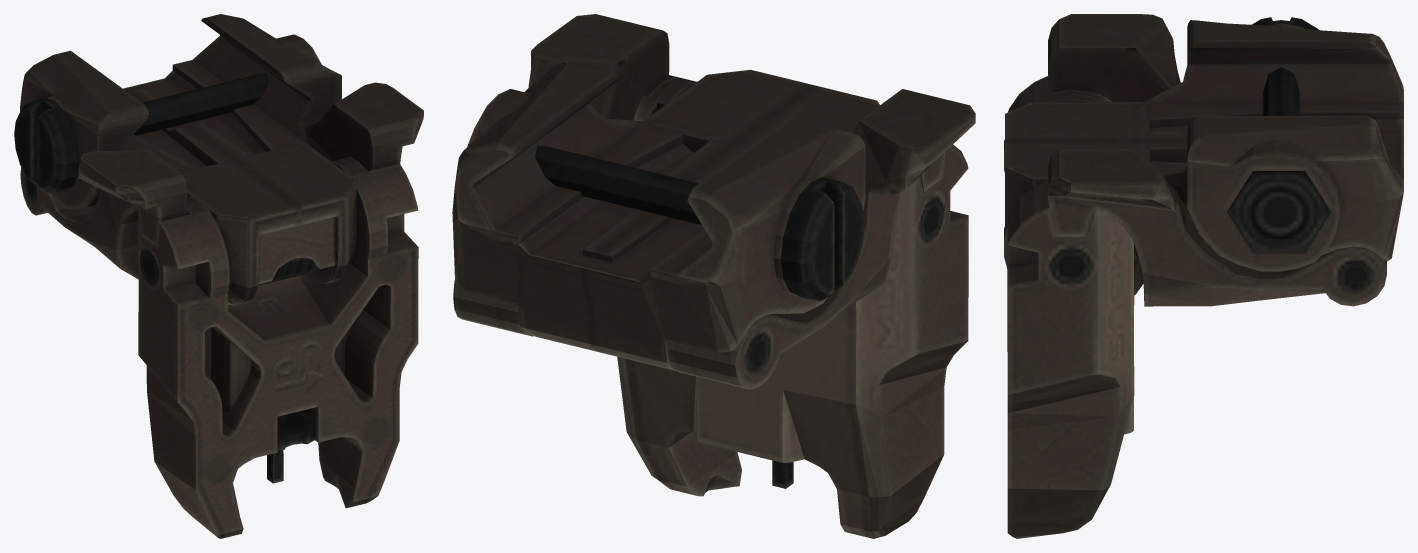
3 renders of one model, left to right at view 1: azimuth 30°, elevation 25°; view 2: azimuth 150°, elevation 25°; view 3: azimuth 270°, elevation 25°, orthographic. The views are drawn at different scales.
Parts seen in each view (by area): view 1: TW_5c18b90d2e2216152142466b_PZ_Import; view 2: TW_5c18b90d2e2216152142466b_PZ_Import; view 3: TW_5c18b90d2e2216152142466b_PZ_Import.
Boxes of the visible parts, bbox=[...] form: TW_5c18b90d2e2216152142466b_PZ_Import: bbox=[14, 14, 423, 538]; TW_5c18b90d2e2216152142466b_PZ_Import: bbox=[452, 14, 975, 538]; TW_5c18b90d2e2216152142466b_PZ_Import: bbox=[1004, 14, 1403, 538].
Size of the model in its own units: 0.0209 by 0.0209 by 0.0242.
1 material, 1 textured.
